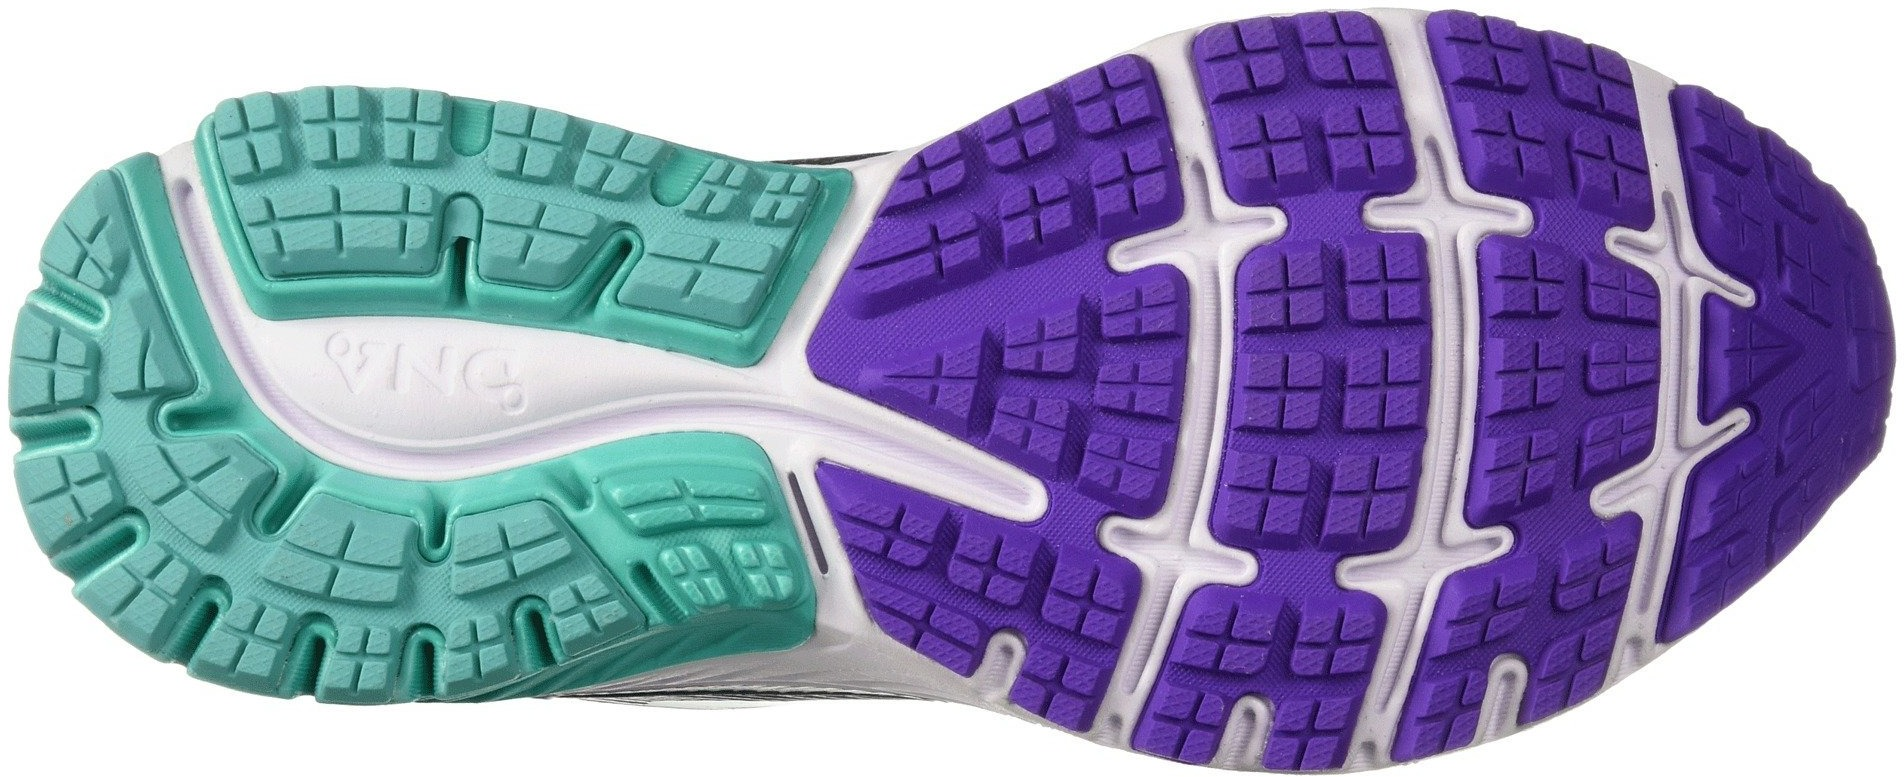quad: (225, 70, 449, 276), (1231, 294, 1439, 490), (1206, 10, 1400, 212), (991, 294, 1179, 480), (1694, 276, 1851, 484), (1478, 287, 1660, 463), (257, 497, 424, 682), (1205, 575, 1382, 745), (481, 95, 614, 270), (858, 297, 1003, 449)
text: (376, 316, 508, 425)
triangle: (1694, 276, 1851, 484), (858, 297, 1003, 449)
